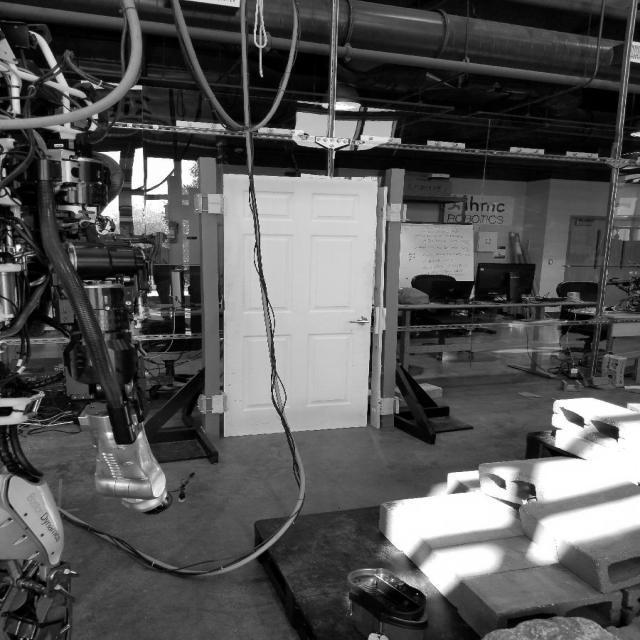door: (217, 170, 379, 437), (351, 318, 372, 325)
